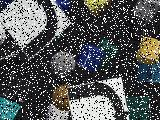Left: (0, 0, 72, 60)
Right: (66, 77, 130, 120)
